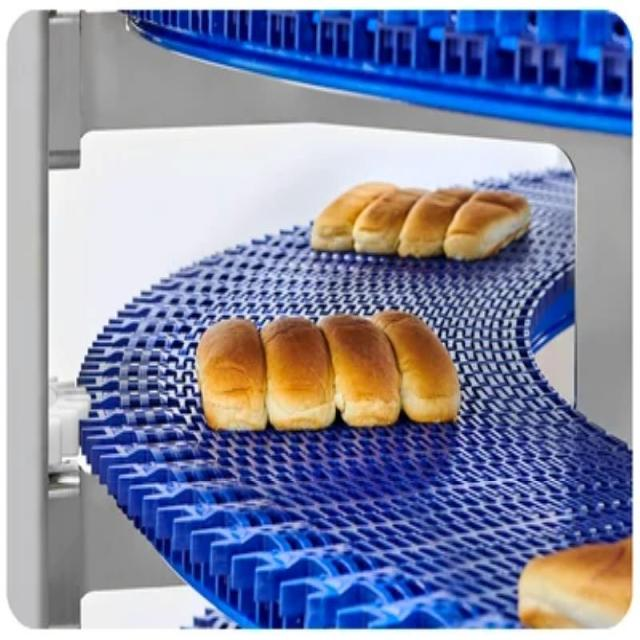food: (194, 306, 468, 436), (304, 174, 538, 266), (505, 515, 635, 640)
